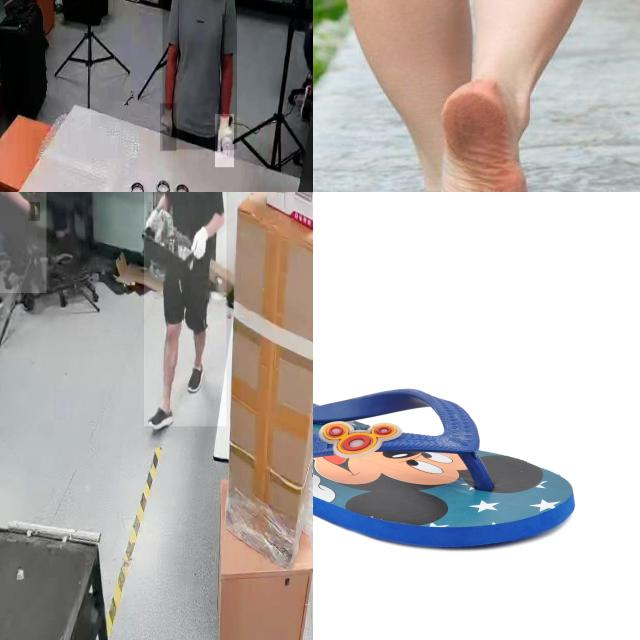Sandals: (313, 379, 576, 550), (426, 65, 532, 192)
hand_glove: (215, 114, 235, 168), (190, 224, 212, 272), (160, 103, 177, 152), (146, 206, 164, 241)
hand_noglove: (28, 202, 40, 222)
person: (144, 192, 227, 427), (162, 0, 237, 150), (0, 192, 47, 293)
shoes: (147, 400, 176, 432), (185, 356, 205, 392)
